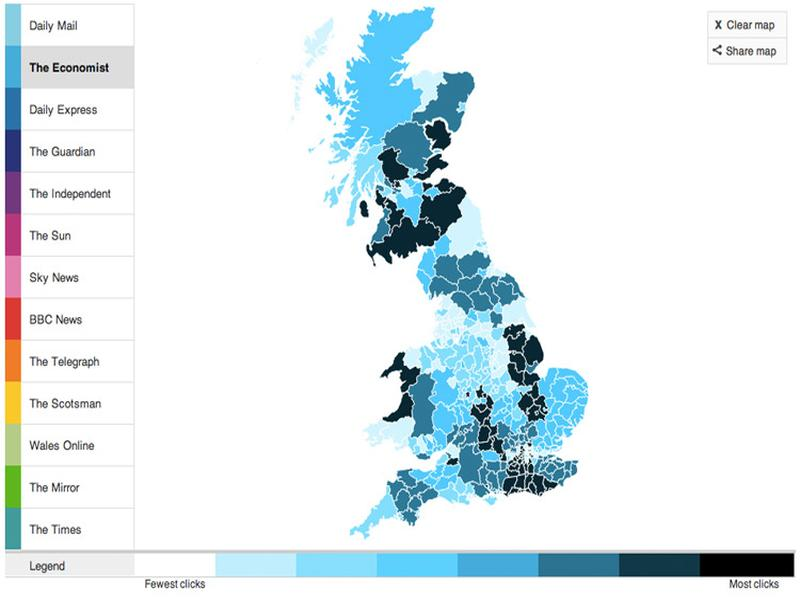legend: (1, 551, 799, 595)
